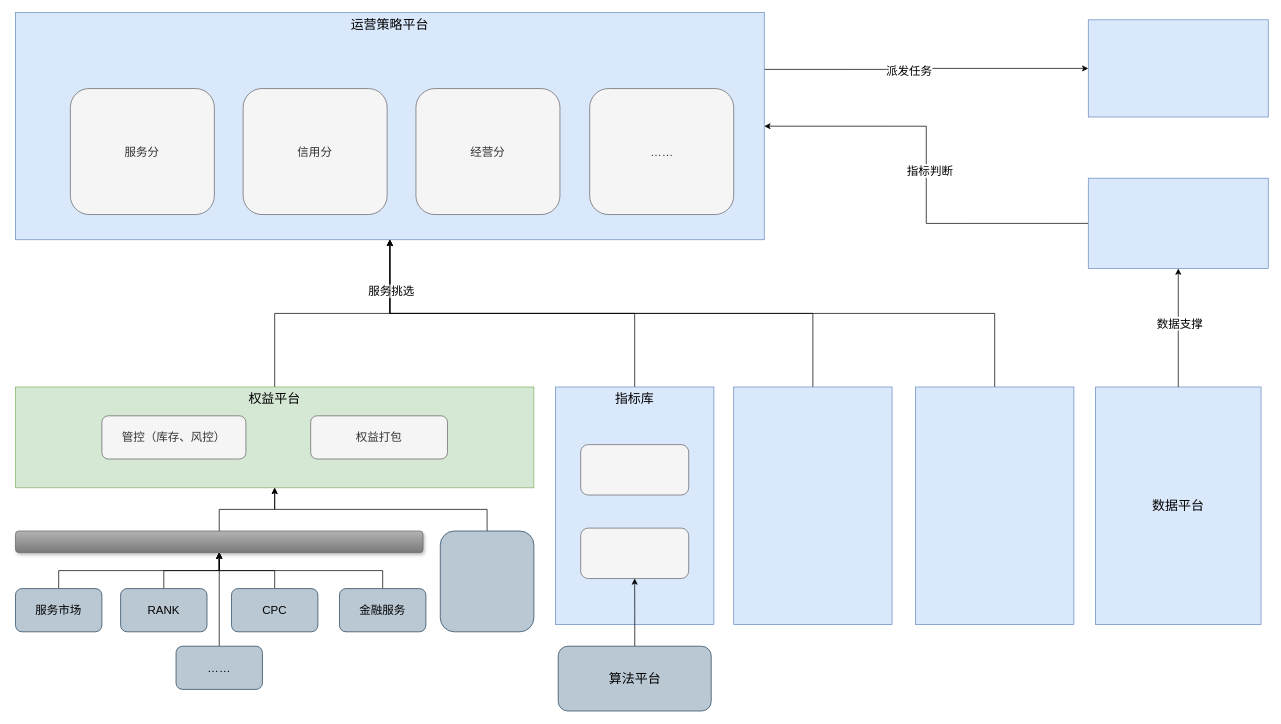
Some shapes in this 1281 by 724 pixel diagram are drawn without their labels. The centre of each missing label's shape, as x and y in pixels:
"人工维护" belongs at (x=634, y=469).
"任务平台" belongs at (x=1178, y=68).
"动态计算" belongs at (x=634, y=553).
"商户圈选规则" belongs at (x=812, y=505).
"建议、攻略" belongs at (x=994, y=505).
"权益对接API" belongs at (x=219, y=542).
"自建权益" belongs at (x=487, y=581).
"诊断系统" belongs at (x=1178, y=223).
